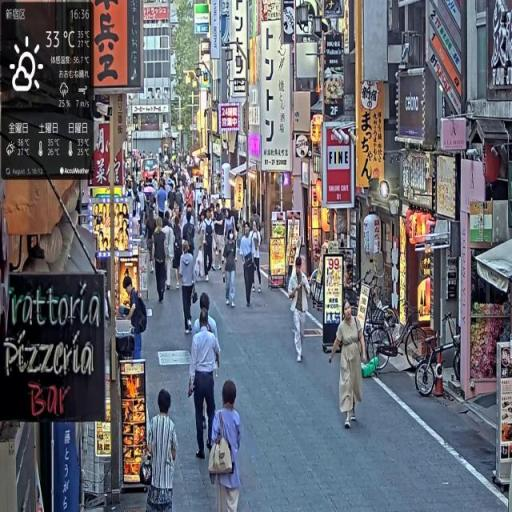person: (188, 297, 221, 461), (331, 299, 369, 433), (140, 388, 180, 512), (210, 379, 243, 512), (289, 253, 312, 367), (122, 275, 148, 374), (179, 238, 198, 335), (153, 219, 170, 308), (240, 224, 257, 312), (222, 234, 238, 310), (202, 210, 216, 280), (252, 221, 264, 296)
